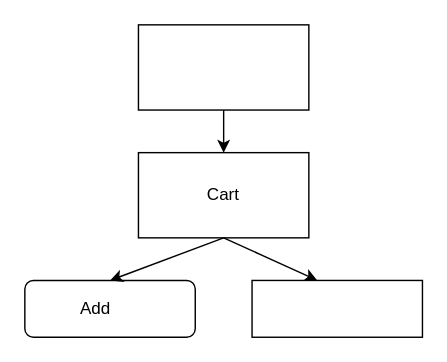
Some shapes in this 447 by 362 pixel diagram are drawn without their labels. Here are the shapes that lost their labels. From the top down, the centre of each, then its label:
At point 223,66: "App".
At point 336,308: "Delete".
